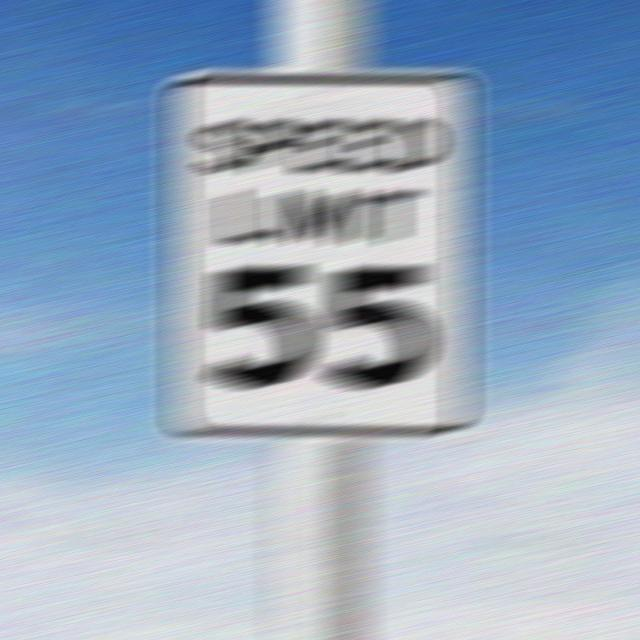speedLimit55: (162, 61, 481, 440)
